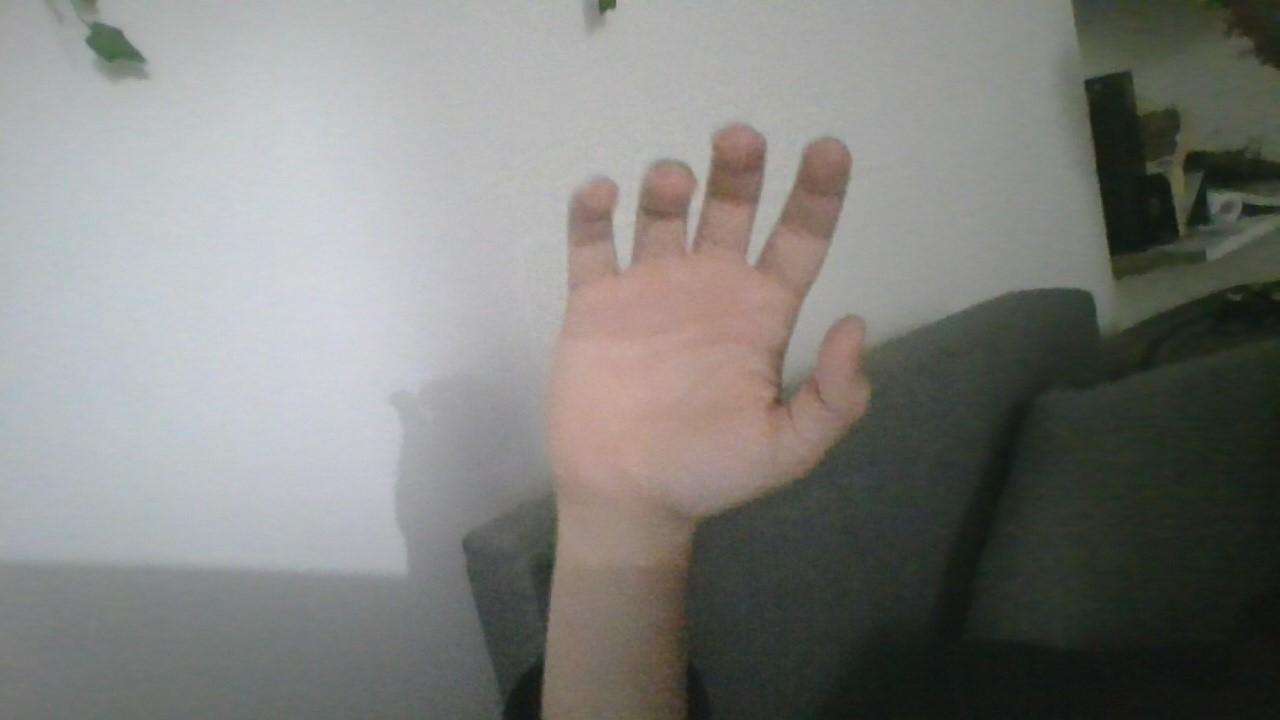hi: (517, 90, 889, 537)
